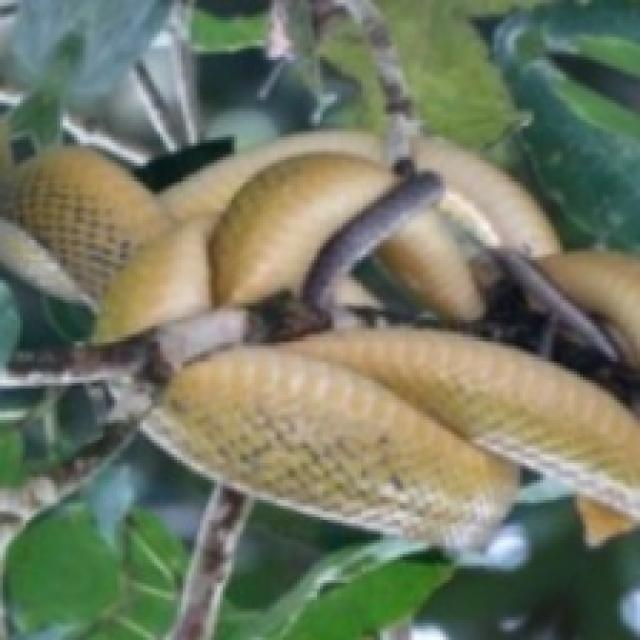red-tailed green ratsnake: (148, 330, 640, 546), (11, 135, 485, 343), (415, 138, 640, 369)
